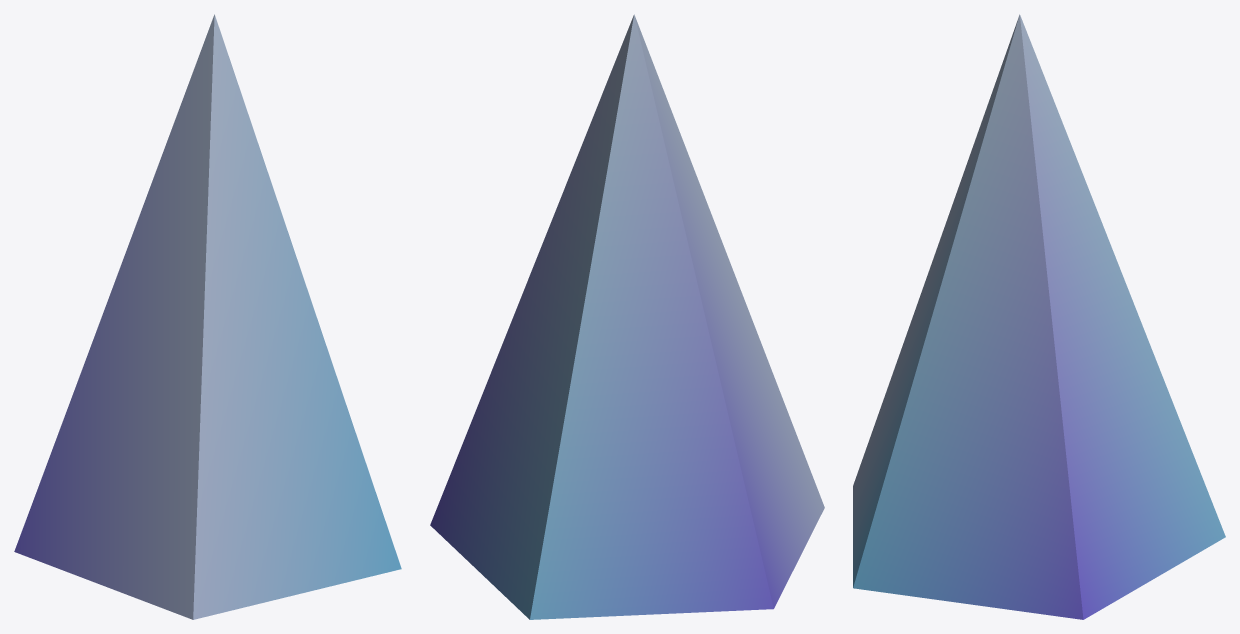
File: tower.gltf
3 views of the same model, side by side, from view 1: azimuth 30°, elevation 25°; view 2: azimuth 150°, elevation 25°; view 3: azimuth 270°, elevation 25° (orthographic).
Visible parts, largest first — view 1: Cone; view 2: Cone; view 3: Cone.
Boxes of the visible parts, left/top/right/bottom form: Cone: left=14, top=14, right=401, bottom=619; Cone: left=430, top=14, right=824, bottom=619; Cone: left=853, top=14, right=1225, bottom=619.
Size of the model in its own units: 1.9 by 2.8 by 1.81.
